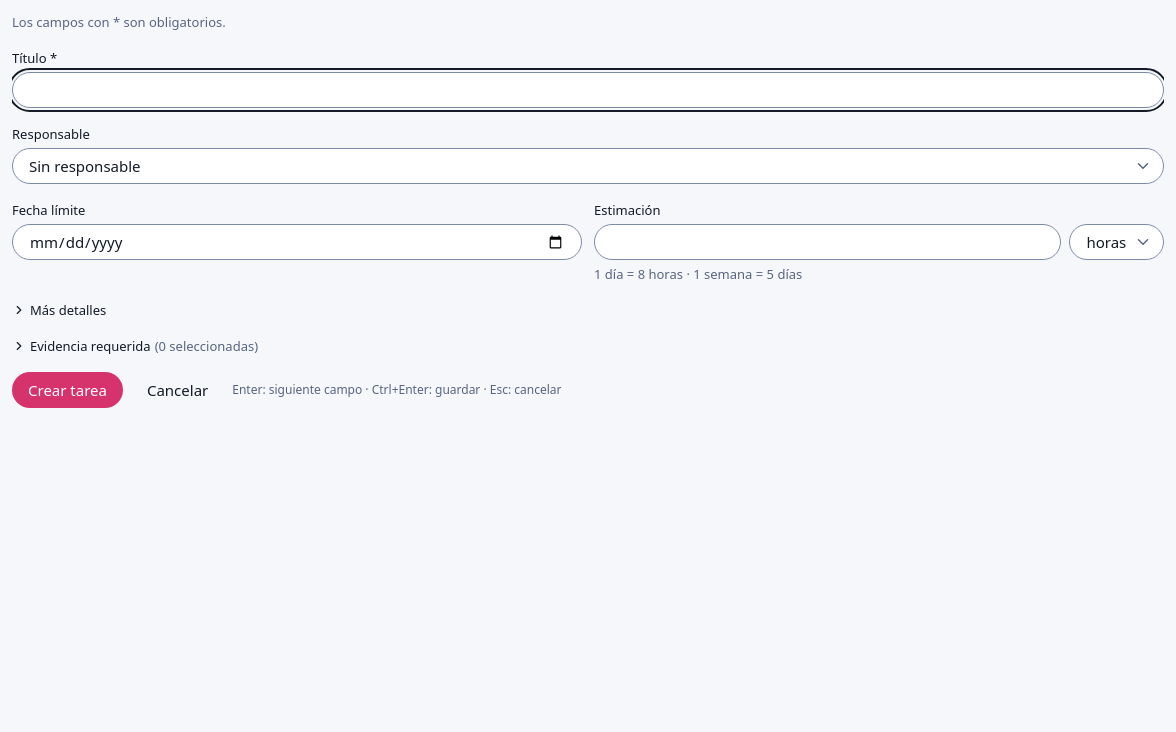
Test: TaskForm (Lote 4) › «Evidencia requerida» empieza plegada y cuenta lo marcado (F-17)
The image size is (1176, 732).
Click the heading "Evidencia requerida (0 seleccionadas)": (135, 346) [12,337,258,355]
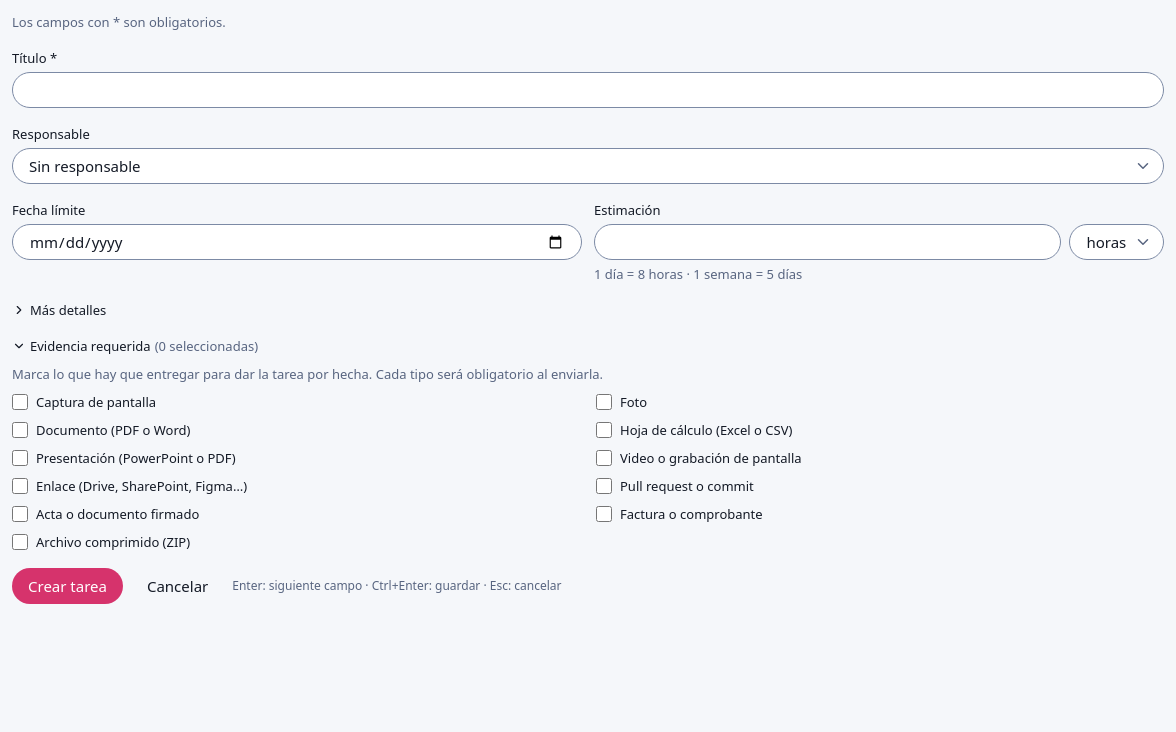
Now the element that starts with "Evidencia requerida" has attribute open, box [11,337,802,551]
Click the checkbox labelled "Archivo comprimido (ZIP)": (20, 542) [12,534,28,550]
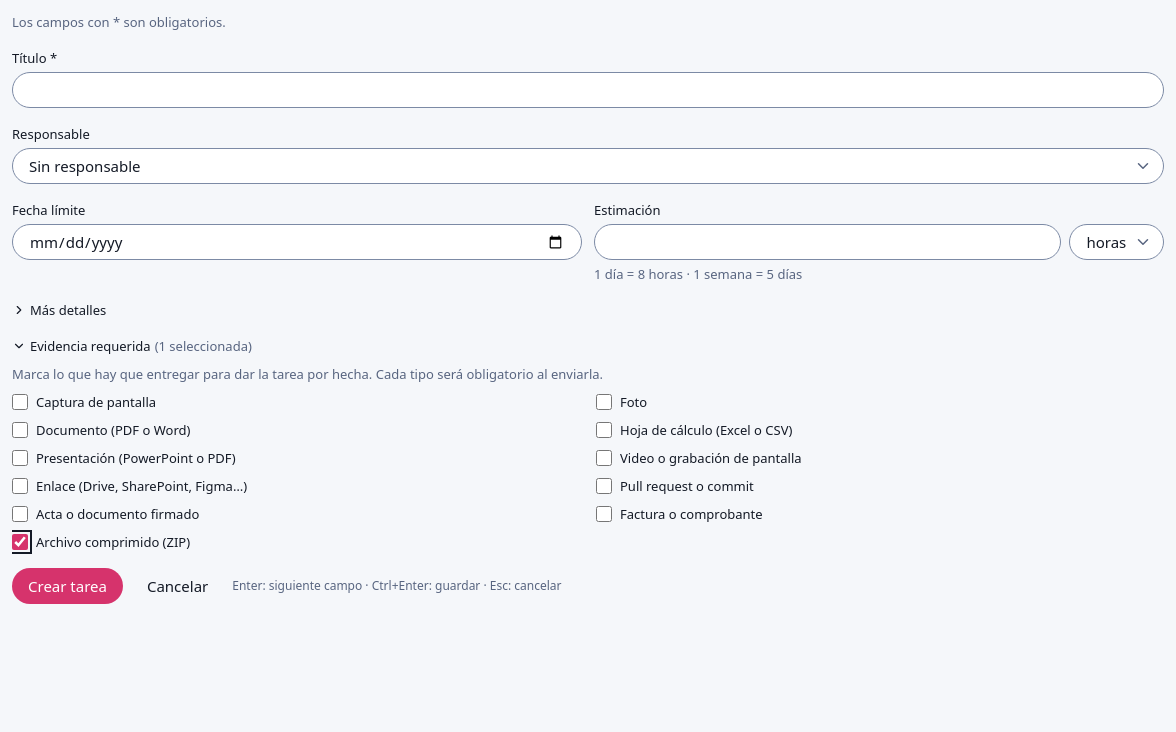
Now the heading "Evidencia requerida (1 seleccionada)" is shown, box [12,337,252,355]
